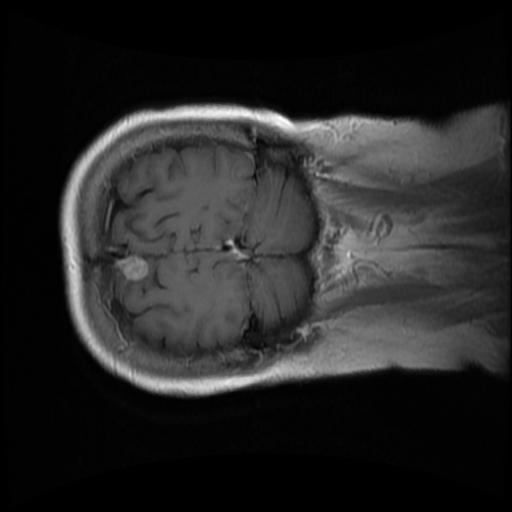meningioma: (114, 255, 148, 282)
